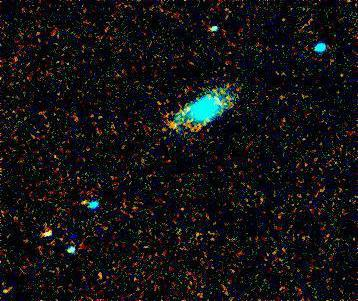star: (161, 112, 191, 142)
